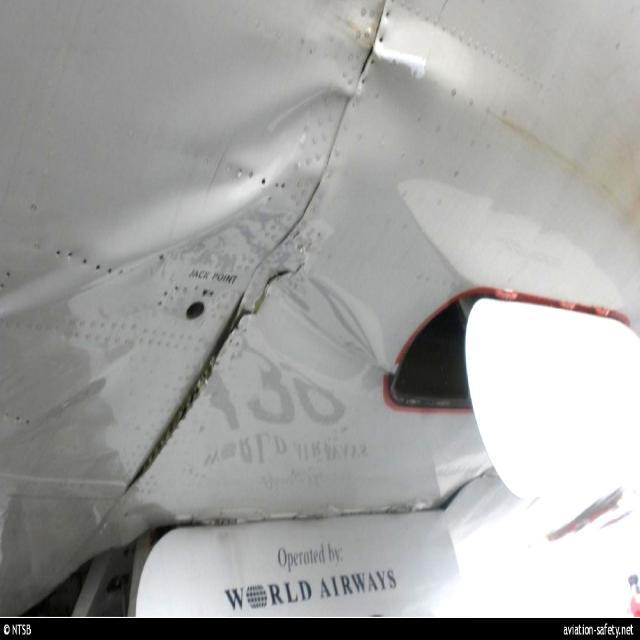crack: (232, 257, 308, 340)
dent: (2, 159, 288, 314), (247, 87, 356, 171)
